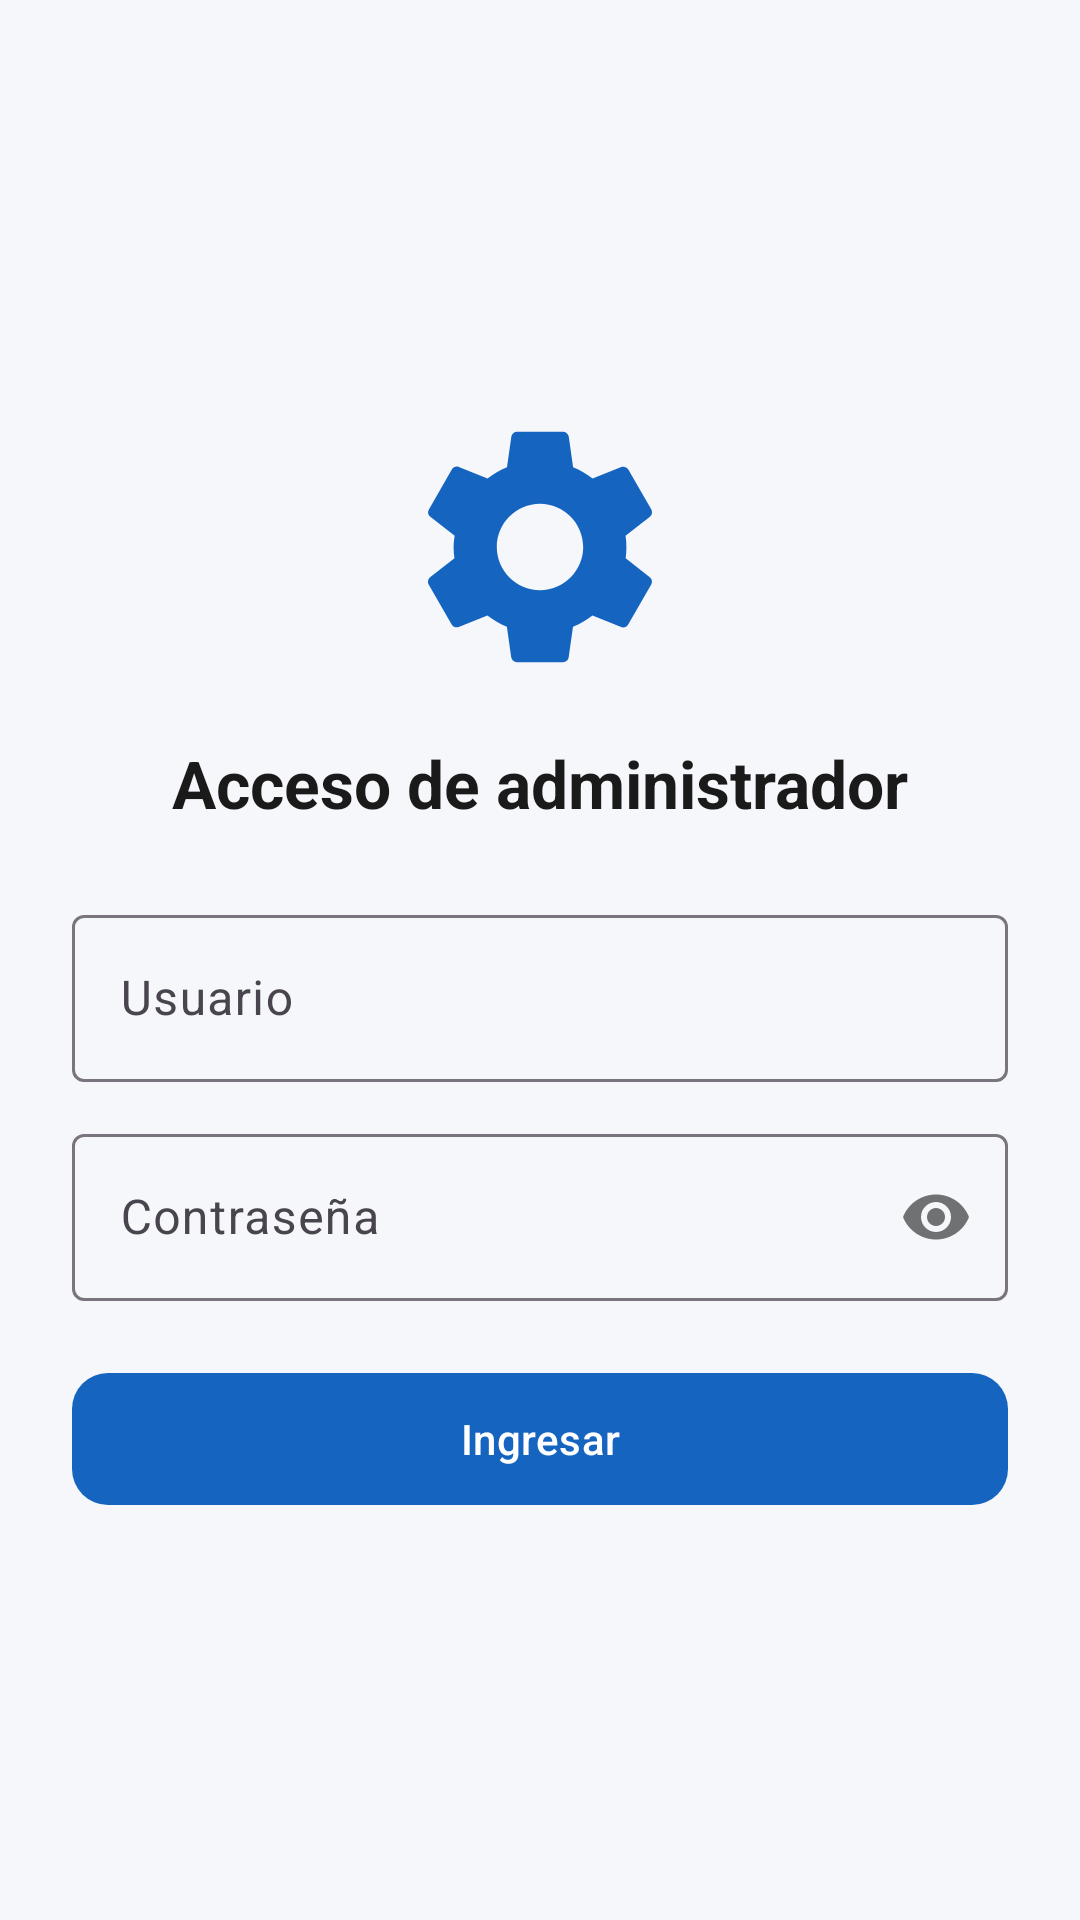

Icon click points for this 1080w x 1920h phone screenshot, format (x=x, y=y):
settings: (x=540, y=547)
